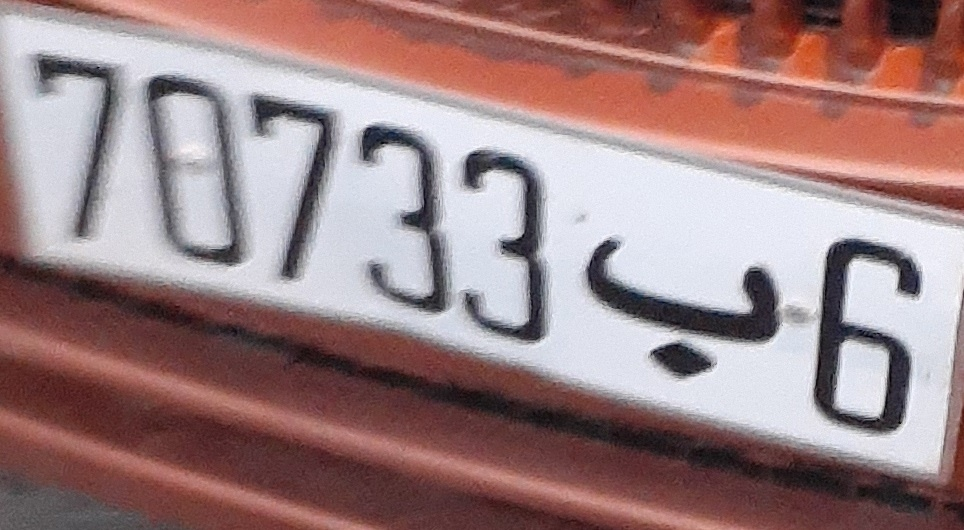0: (140, 70, 248, 275)
3: (355, 119, 455, 320), (455, 143, 550, 346)
6: (806, 227, 929, 436)
7: (26, 45, 130, 244), (246, 89, 347, 288)
b: (577, 214, 783, 384)
